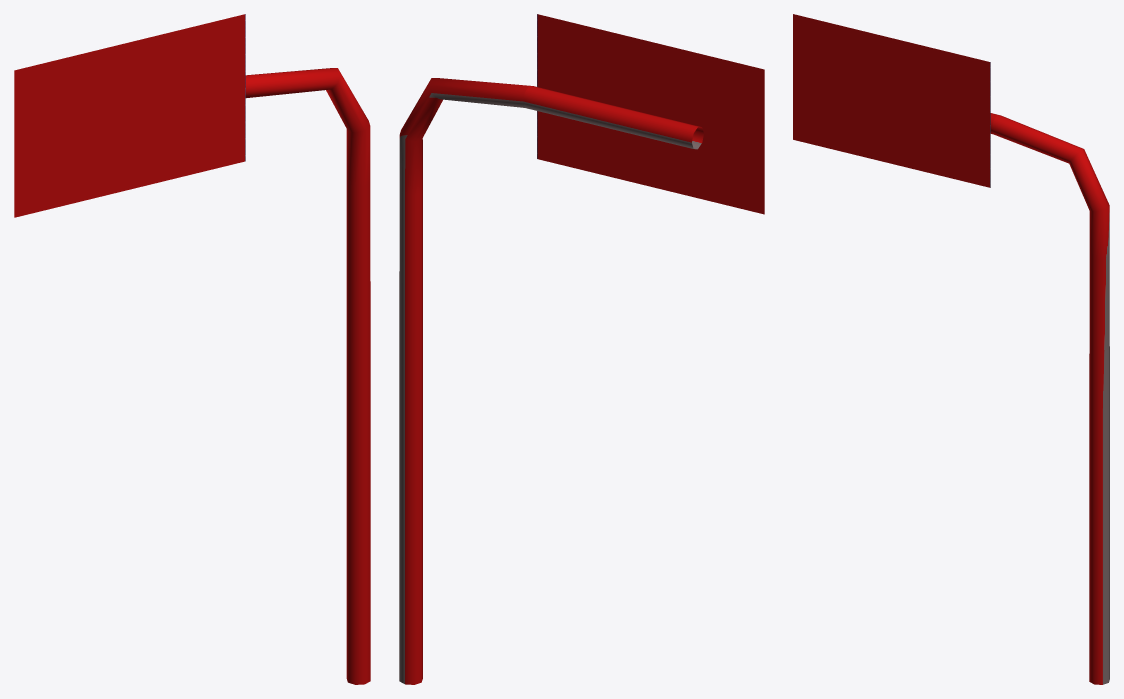
The model's file is RoadSign3.fbx.
3 views of the same model, side by side, from view 1: azimuth 30°, elevation 25°; view 2: azimuth 150°, elevation 25°; view 3: azimuth 330°, elevation 25° (orthographic). The views are drawn at different scales.
Visible parts, largest first — view 1: RoadSign3; view 2: RoadSign3; view 3: RoadSign3.
Part boxes in pixels (box(x1,y1,x2,y2)): RoadSign3: box(14, 14, 370, 684); RoadSign3: box(399, 14, 764, 684); RoadSign3: box(793, 14, 1109, 684).
Bounding box in the file's own units: 254 × 469 × 16.6.
